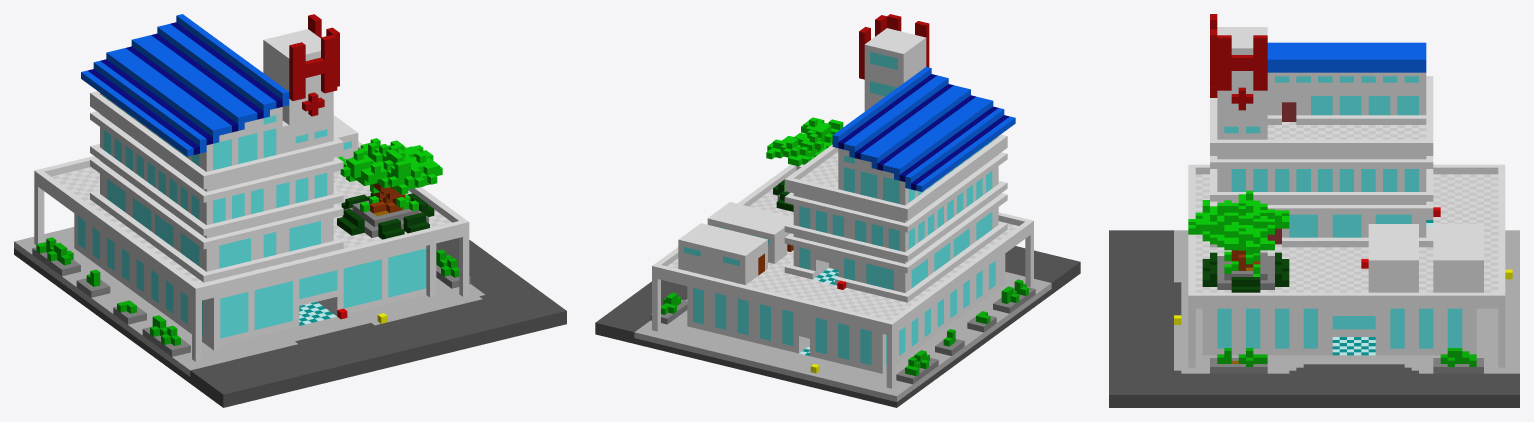
3 views of the same model, side by side, from view 1: azimuth 30°, elevation 25°; view 2: azimuth 150°, elevation 25°; view 3: azimuth 270°, elevation 25° (orthographic). The views are drawn at different scales.
Parts seen in each view (by area): view 1: Object_2; view 2: Object_2; view 3: Object_2.
Part boxes in pixels (box(x1,y1,x2,y2)): Object_2: box(14, 14, 566, 407); Object_2: box(595, 14, 1080, 407); Object_2: box(1109, 14, 1519, 407).
Bounding box in the file's own units: 5.4 × 4.4 × 5.7.
1 material, 1 textured.
